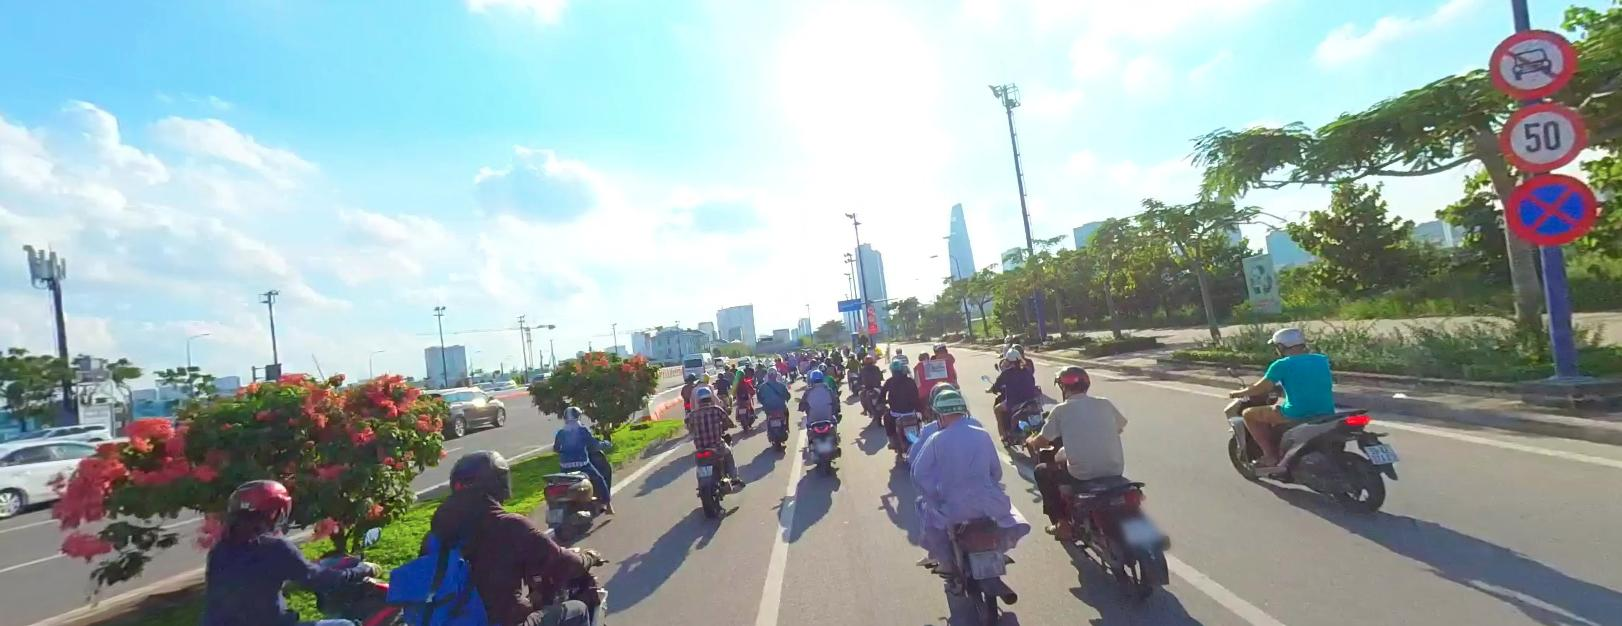Cam con lai: (1490, 28, 1575, 98), (867, 312, 875, 320), (867, 304, 874, 311)
Cam dung va do: (1504, 171, 1597, 243)
Gioi han toc do: (1497, 101, 1585, 169)
